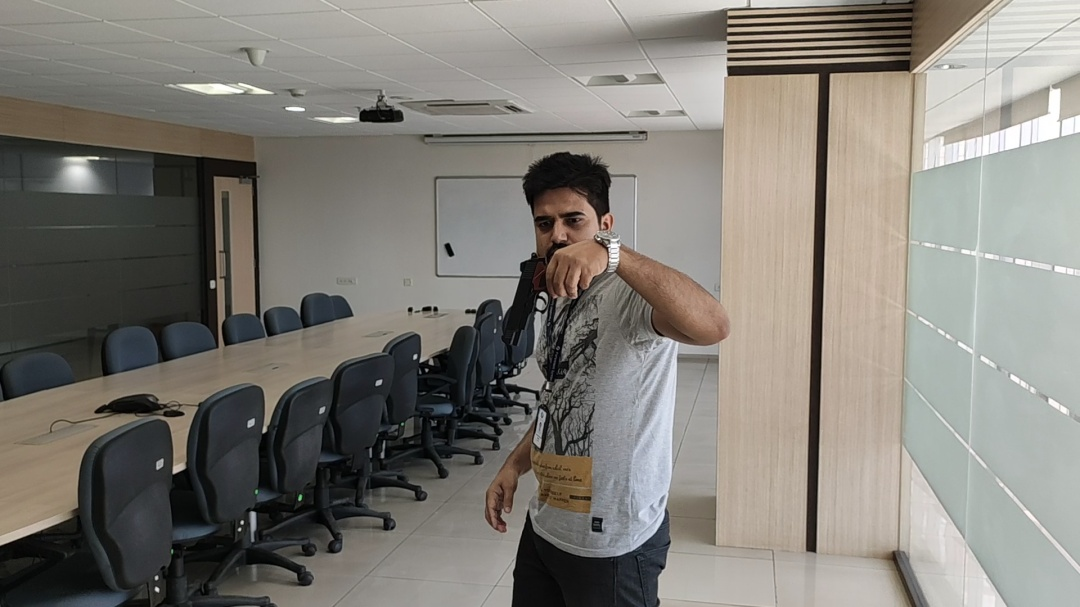gun: (252, 95, 944, 561)
